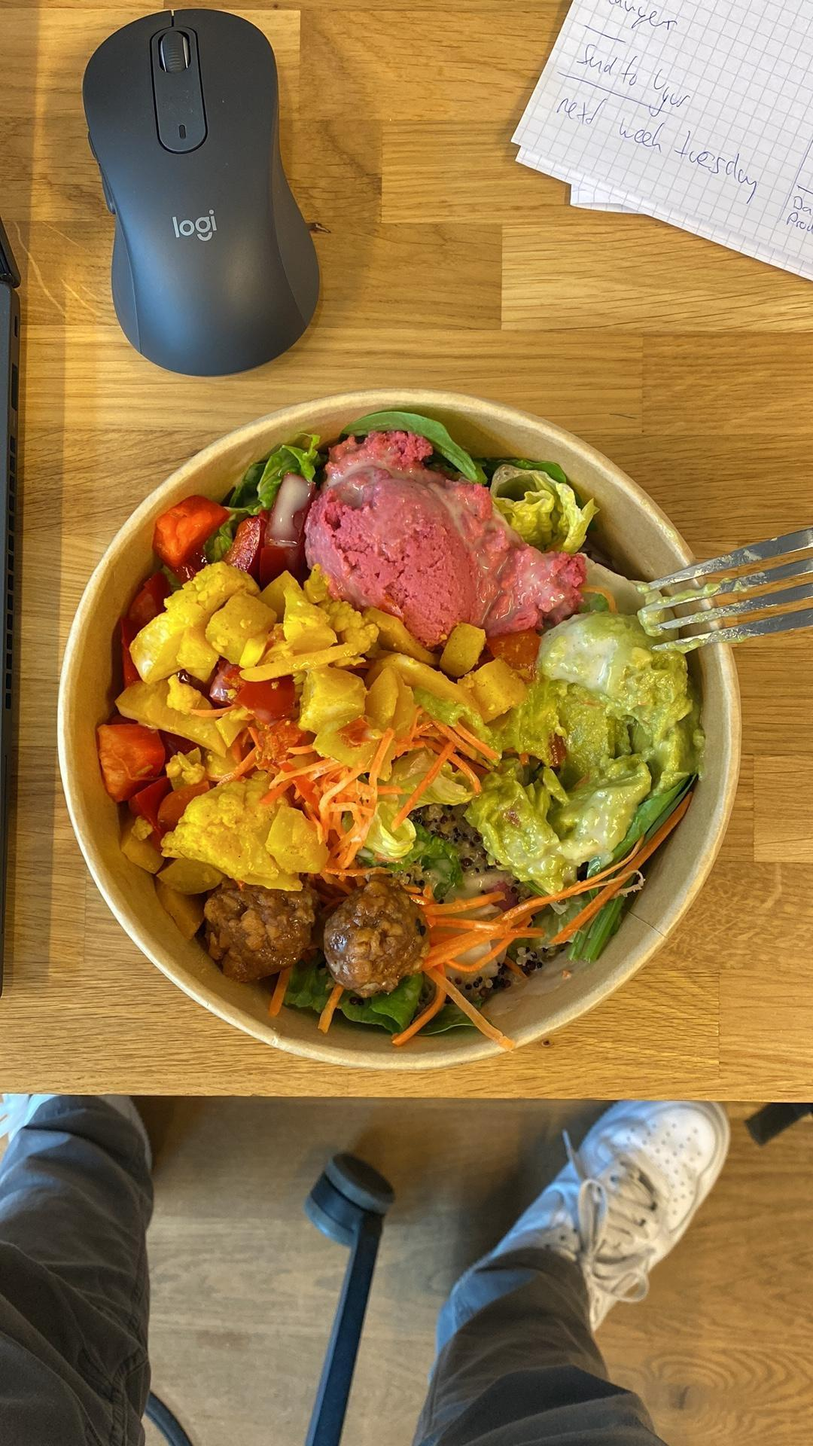avocado: (496, 654, 694, 878)
bell pepper: (95, 718, 165, 800), (158, 492, 221, 559), (225, 664, 293, 724), (126, 786, 175, 840)
carrot: (482, 803, 688, 937), (401, 886, 533, 965), (401, 966, 510, 1060), (285, 757, 376, 851), (403, 697, 489, 786)
lettuce: (563, 786, 693, 964), (267, 958, 421, 1042), (486, 451, 601, 547), (340, 412, 478, 475), (227, 436, 316, 521), (578, 542, 662, 621)
